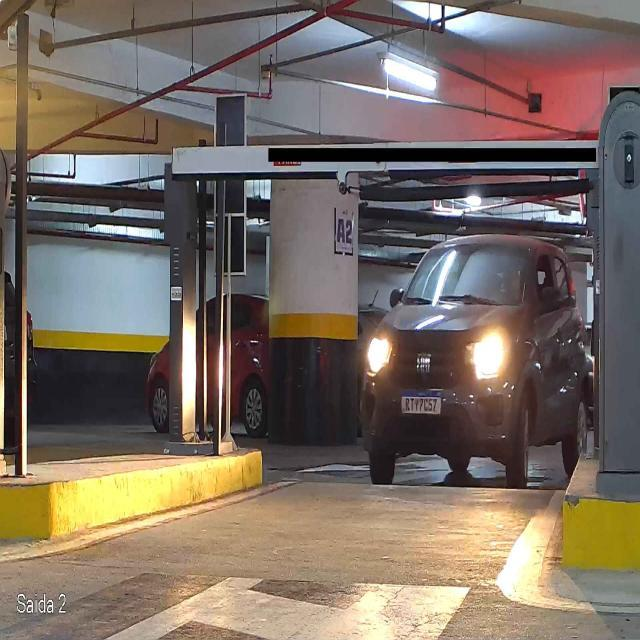mercosul_plate: (399, 390, 443, 416)
